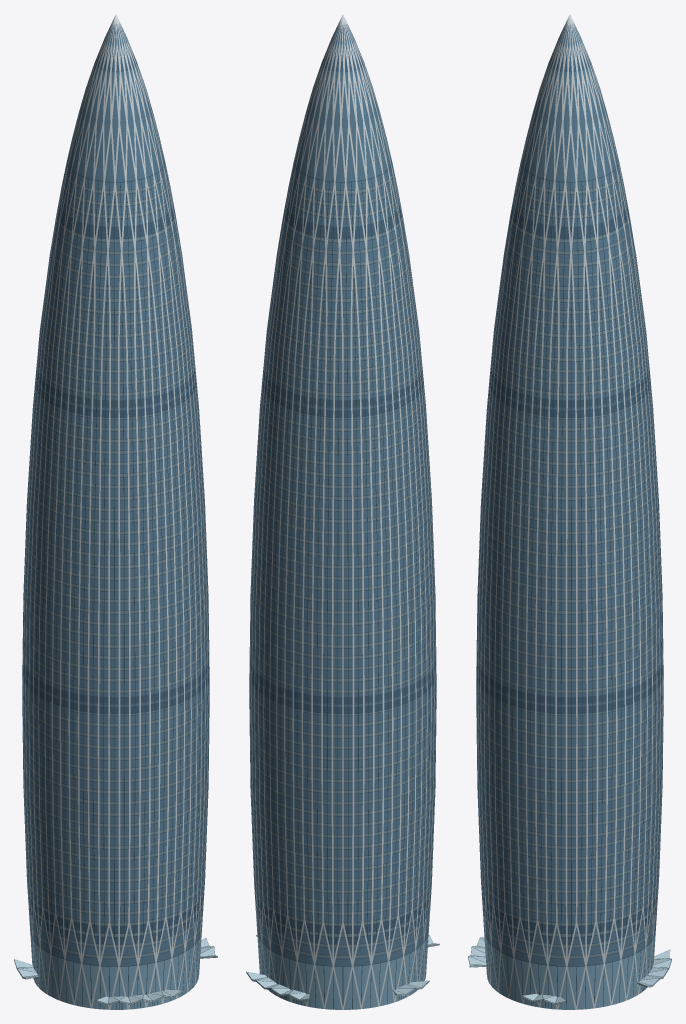
Rendered from resources_tower_abfd8c29.glb.
3 views of the same model, side by side, from view 1: azimuth 30°, elevation 25°; view 2: azimuth 150°, elevation 25°; view 3: azimuth 270°, elevation 25° (orthographic).
Parts seen in each view (by area): view 1: resources_tower_abfd8c29; view 2: resources_tower_abfd8c29; view 3: resources_tower_abfd8c29.
Part boxes in pixels (x1=…): resources_tower_abfd8c29: x1=14, y1=14, x2=217, y2=1009; resources_tower_abfd8c29: x1=246, y1=14, x2=439, y2=1009; resources_tower_abfd8c29: x1=468, y1=14, x2=671, y2=1009.
Size of the model in its own units: 75.47 by 393 by 75.47.
1 material, 1 textured.
